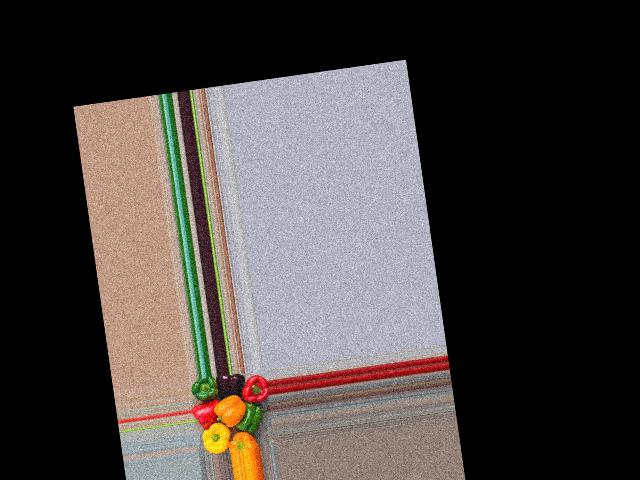bell_pepper: (226, 422, 266, 452)
